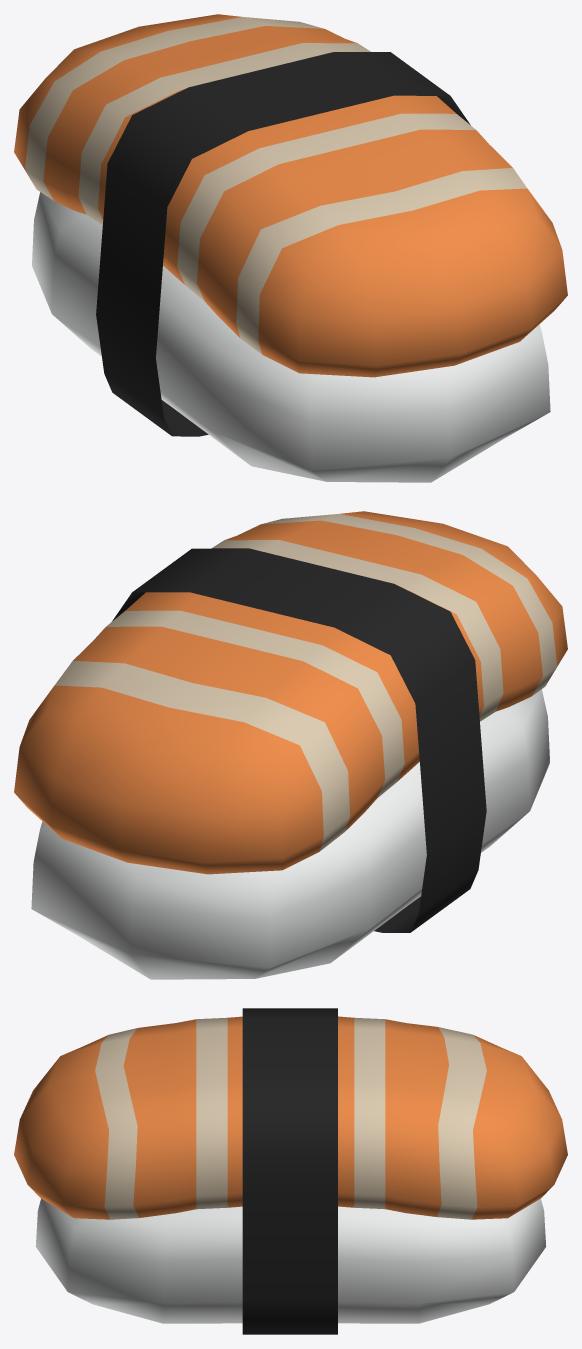
The model's file is salmon_nigiri.glb.
The picture shows the model from 3 angles, top to bottom: view 1: azimuth 30°, elevation 25°; view 2: azimuth 150°, elevation 25°; view 3: azimuth 270°, elevation 25°; orthographic projection. The views are drawn at different scales.
Parts seen in each view (by area): view 1: Food_SalmonNigiri; view 2: Food_SalmonNigiri; view 3: Food_SalmonNigiri.
Boxes of the visible parts, left/top/right/bottom form: Food_SalmonNigiri: left=14, top=14, right=567, bottom=482; Food_SalmonNigiri: left=14, top=511, right=567, bottom=979; Food_SalmonNigiri: left=14, top=1008, right=567, bottom=1334.
Size of the model in its own units: 0.3556 by 0.3141 by 0.6512.
Materials: 1 (1 with a texture image).
